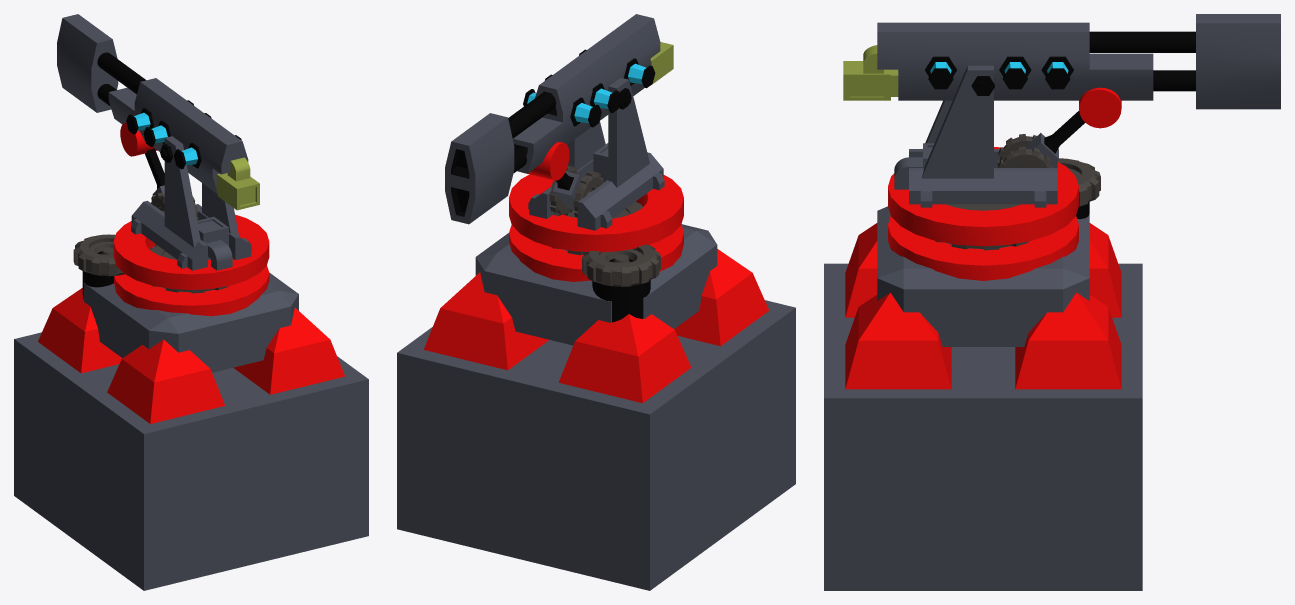
File: railgun 1.fbx
3 renders of one model, left to right at view 1: azimuth 30°, elevation 25°; view 2: azimuth 150°, elevation 25°; view 3: azimuth 270°, elevation 25°, orthographic. The views are drawn at different scales.
Visible parts, largest first — view 1: block_default_35, block_rounded_7, roof_point_divided_11, cylinder_hollow_20, roof_point_divided_12, engine_barrelTop_26, cylinder_hollow_16, roof_point_divided_14, engine_barrelTop_7, wing_endLong_27, detail_bumper_23, detail_airSmall_12 (+12 smaller); view 2: block_default_35, block_rounded_7, roof_point_divided_14, cylinder_hollow_20, roof_point_divided_13, engine_barrelTop_26, roof_point_divided_11, engine_barrelTop_7, cylinder_hollow_16, detail_bumper_23, wing_endLong_27, wheel_dirt_18 (+13 smaller); view 3: block_default_35, block_rounded_7, engine_barrelTop_26, roof_point_divided_13, roof_point_divided_12, cylinder_hollow_20, engine_barrelTop_28, cylinder_hollow_16, wing_endLong_24, detail_bumper_22, engine_barrelTop_7, engine_barrelTop_8 (+14 smaller).
Boxes of the visible parts, box(x1,y1,x2,y2) form: block_default_35: box(14, 332, 368, 590); block_rounded_7: box(84, 272, 298, 372); roof_point_divided_11: box(107, 339, 224, 423); cylinder_hollow_20: box(113, 214, 269, 289); roof_point_divided_12: box(233, 308, 344, 394); engine_barrelTop_26: box(134, 78, 248, 174); cylinder_hollow_16: box(114, 246, 269, 316); roof_point_divided_14: box(38, 288, 122, 373); engine_barrelTop_7: box(57, 14, 117, 79); wing_endLong_27: box(164, 136, 200, 247); detail_bumper_23: box(131, 200, 207, 270); detail_airSmall_12: box(216, 157, 259, 210); block_default_35: box(397, 300, 795, 590); block_rounded_7: box(475, 224, 717, 345); roof_point_divided_14: box(558, 314, 691, 403); cylinder_hollow_20: box(509, 174, 683, 252); roof_point_divided_13: box(423, 272, 549, 370); engine_barrelTop_26: box(535, 14, 660, 122); roof_point_divided_11: box(674, 249, 768, 346); engine_barrelTop_7: box(445, 113, 514, 186); cylinder_hollow_16: box(509, 225, 683, 281); detail_bumper_23: box(577, 152, 664, 230); wing_endLong_27: box(608, 77, 649, 187); wheel_dirt_18: box(582, 244, 660, 286); block_default_35: box(824, 263, 1142, 590); block_rounded_7: box(877, 206, 1089, 346); engine_barrelTop_26: box(877, 22, 1089, 69); roof_point_divided_13: box(1015, 292, 1121, 389); roof_point_divided_12: box(845, 292, 951, 389); cylinder_hollow_20: box(888, 147, 1078, 246); engine_barrelTop_28: box(898, 53, 1153, 100); cylinder_hollow_16: box(888, 216, 1078, 280); wing_endLong_24: box(921, 65, 993, 178); detail_bumper_22: box(909, 168, 1057, 207); engine_barrelTop_7: box(1196, 14, 1280, 69); engine_barrelTop_8: box(1196, 69, 1280, 109).
Bounding box in the file's own units: 30 × 52.45 × 43.
